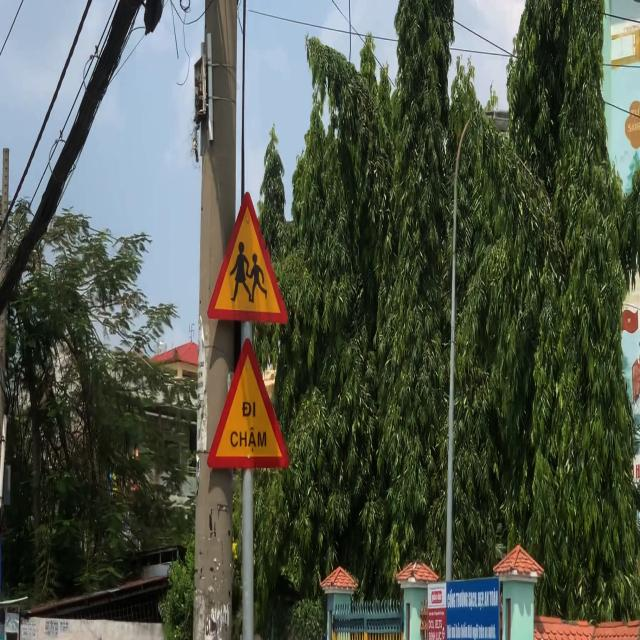Nguy hiem: (206, 336, 292, 468), (206, 190, 288, 325)
